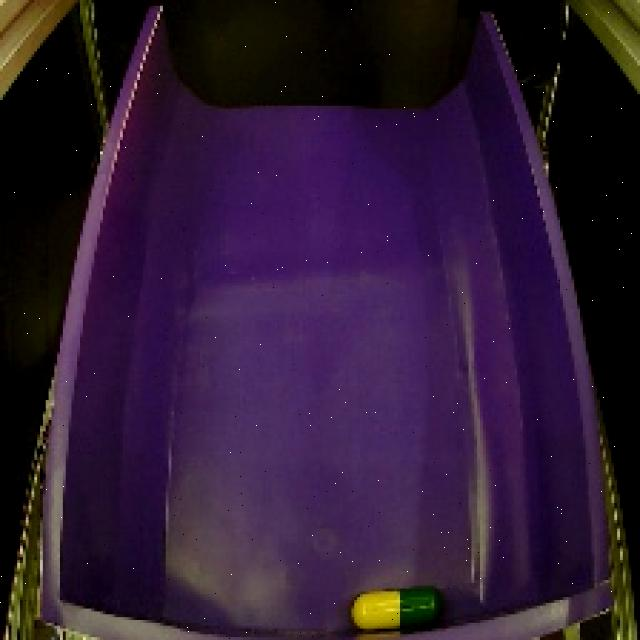small: (347, 571, 447, 640)
